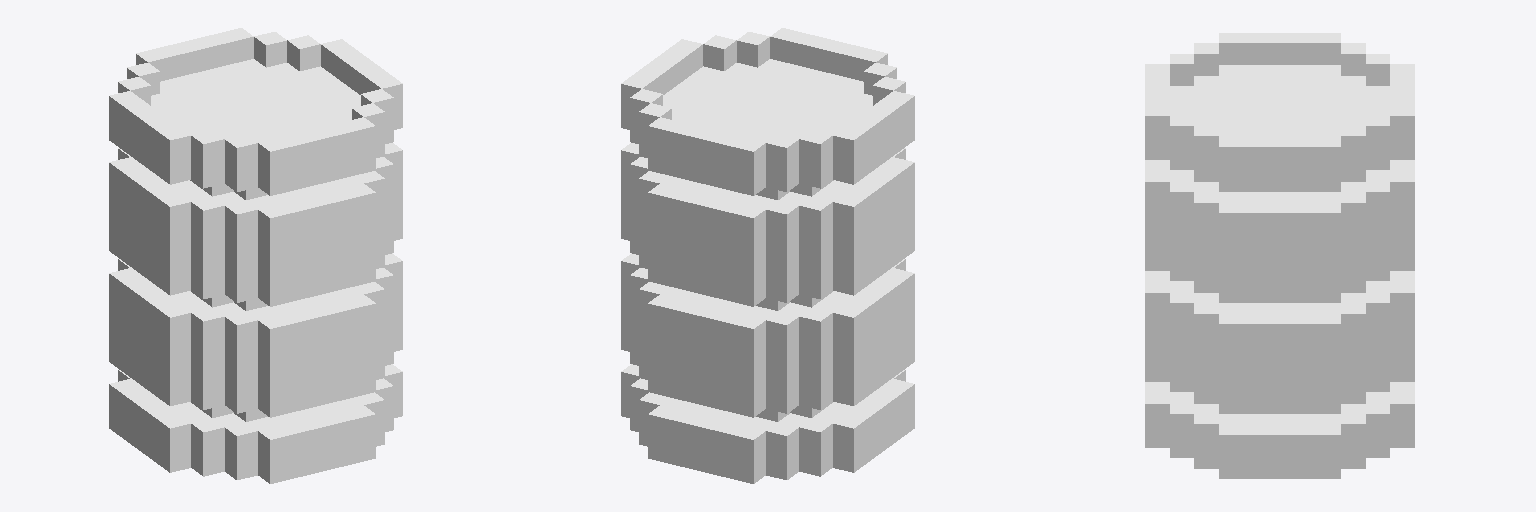
Rendered from lvl1-14.obj.
The picture shows the model from 3 angles: view 1: azimuth 30°, elevation 25°; view 2: azimuth 150°, elevation 25°; view 3: azimuth 270°, elevation 25°; orthographic projection.
Parts seen in each view (by area): view 1: object 1; view 2: object 1; view 3: object 1.
Part boxes in pixels (x1,y1,x2,y2): object 1: (109,28,402,483); object 1: (621,28,914,483); object 1: (1145,33,1414,478).
Size of the model in its own units: 1.1 by 1.5 by 1.1.